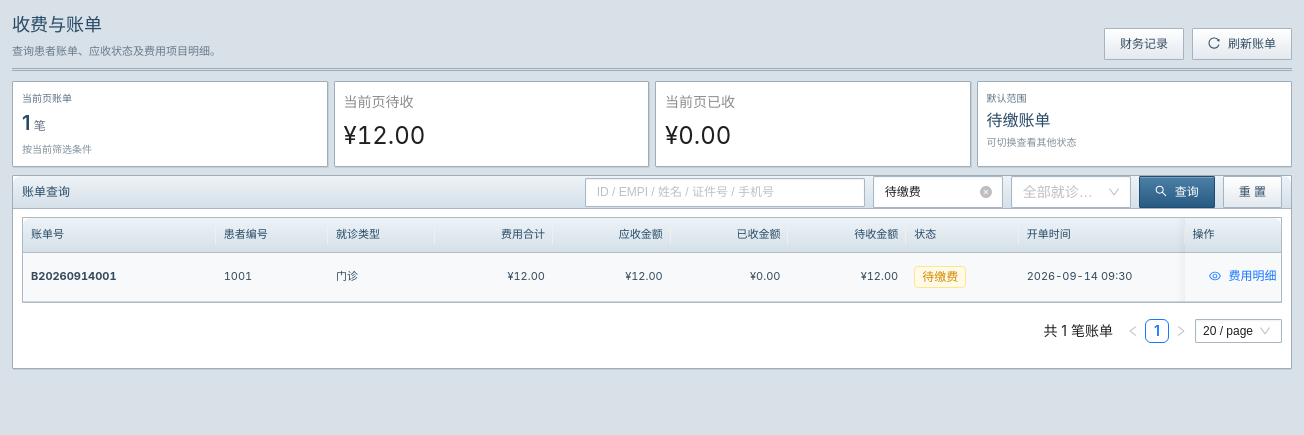
OperationsPage › reports failed patient resolution and can reset to all pending bills
Expected: the text "B20260914001" is shown, [31,269,116,283]
Type "EMPI001" into the field named "患者编号". click: point(725, 192)
box: [585,178,865,207]
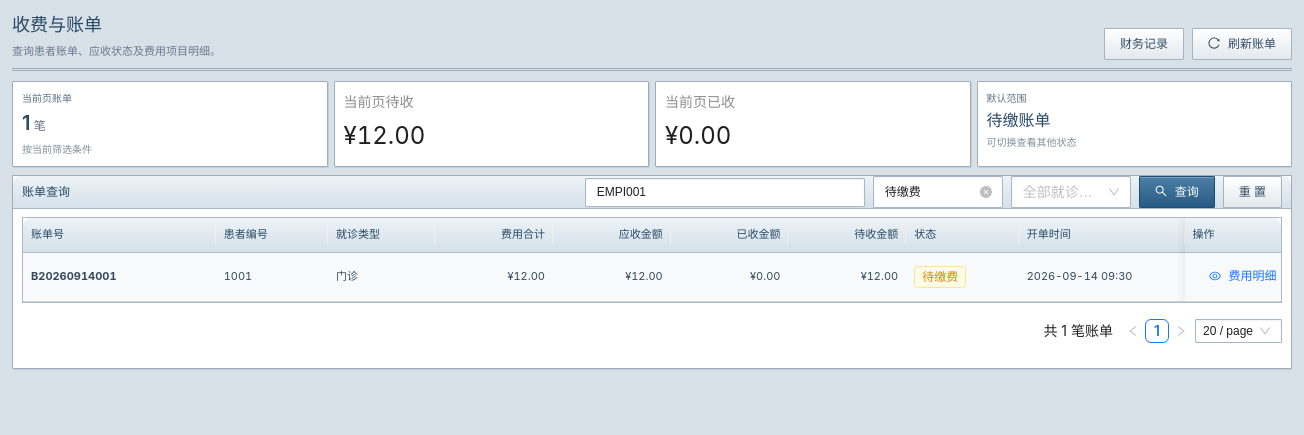
Click the button "查询". click: point(1177, 192)
box: [1139,176,1215,208]
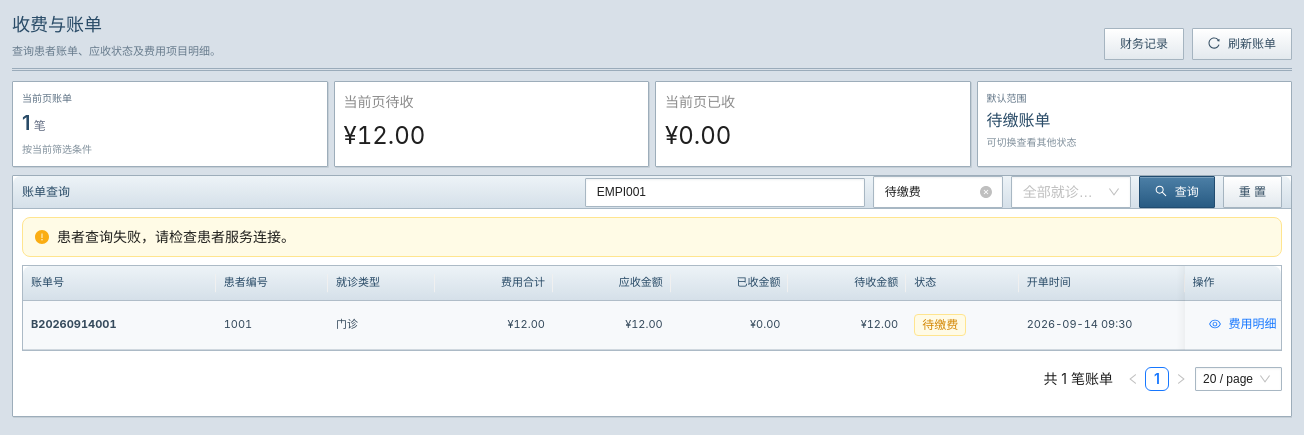
Result: the text "患者查询失败，请检查患者服务连接。" is shown at [57,228,295,245]
Click the button "重 置". click: point(1252, 192)
box: [1223,176,1282,208]
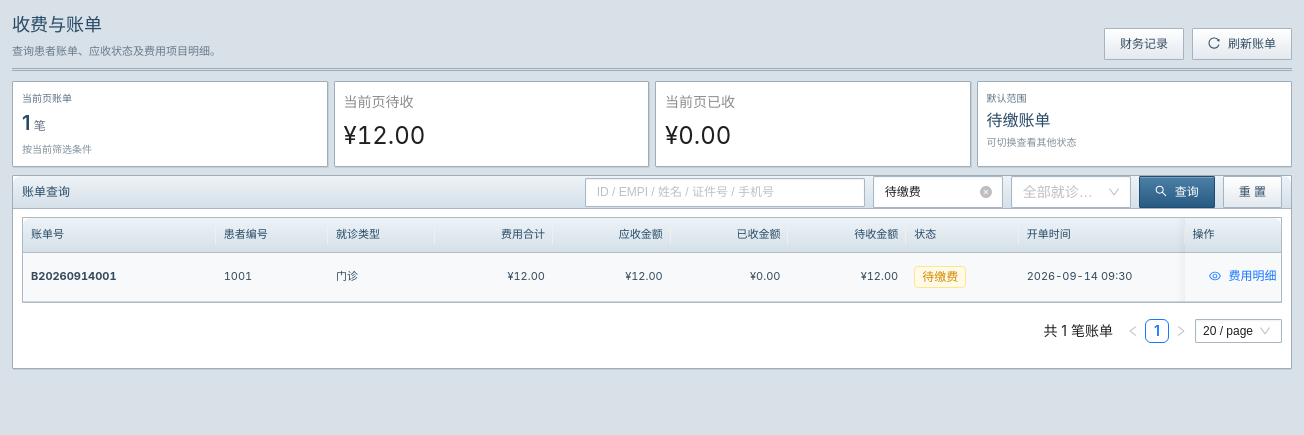
Result: the field named "患者编号" is empty at [585,178,865,207]
Result: the text "患者查询失败，请检查患者服务连接。" is gone
